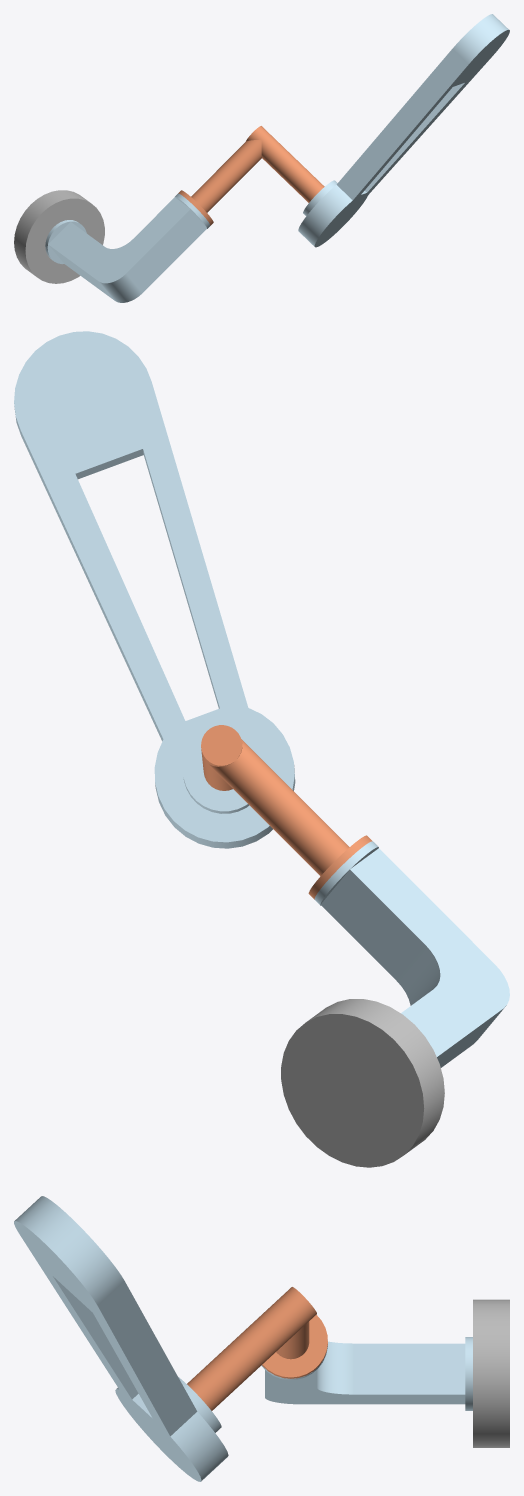
Rendered from ESRAP.gltf.
3 views of the same model, one above another, from view 1: azimuth 30°, elevation 25°; view 2: azimuth 150°, elevation 25°; view 3: azimuth 270°, elevation 25° (orthographic). The views are drawn at different scales.
Parts seen in each view (by area): view 1: mesh26_meshnode_26, mesh11_meshnode_11, mesh33_meshnode_33, mesh4_meshnode_4, mesh28_meshnode_28, mesh15_meshnode_15, mesh16_meshnode_16, mesh3_meshnode_3, mesh34_meshnode_34, mesh6_meshnode_6, mesh8_meshnode_8, mesh29_meshnode_29 (+2 smaller); view 2: mesh2_meshnode_2, mesh35_meshnode_35, mesh26_meshnode_26, mesh15_meshnode_15, mesh25_meshnode_25, mesh34_meshnode_34, mesh0_meshnode_0, mesh24_meshnode_24, mesh18_meshnode_18; view 3: mesh23_meshnode_23, mesh34_meshnode_34, mesh5_meshnode_5, mesh16_meshnode_16, mesh4_meshnode_4, mesh6_meshnode_6, mesh27_meshnode_27, mesh3_meshnode_3, mesh24_meshnode_24, mesh14_meshnode_14, mesh10_meshnode_10, mesh15_meshnode_15 (+2 smaller).
Part boxes in pixels (x1,y1,x2,y2): mesh26_meshnode_26: (48,197,190,283); mesh11_meshnode_11: (336,49,468,199); mesh33_meshnode_33: (25,198,104,283); mesh4_meshnode_4: (314,30,509,247); mesh28_meshnode_28: (126,209,206,292); mesh15_meshnode_15: (191,139,261,212); mesh16_meshnode_16: (246,126,324,202); mesh3_meshnode_3: (298,185,352,246); mesh34_meshnode_34: (14,190,89,275); mesh6_meshnode_6: (452,14,508,64); mesh8_meshnode_8: (365,83,464,192); mesh29_meshnode_29: (99,274,142,302); mesh2_meshnode_2: (14,331,294,842); mesh35_meshnode_35: (281,1014,424,1167); mesh26_meshnode_26: (350,848,509,1056); mesh15_meshnode_15: (207,739,349,875); mesh25_meshnode_25: (320,870,424,979); mesh34_meshnode_34: (307,999,444,1154); mesh0_meshnode_0: (183,732,264,811); mesh24_meshnode_24: (396,945,440,1005); mesh18_meshnode_18: (201,725,242,765); mesh23_meshnode_23: (354,1343,465,1394); mesh34_meshnode_34: (473,1299,509,1447); mesh5_meshnode_5: (98,1281,197,1436); mesh16_meshnode_16: (187,1287,316,1410); mesh4_meshnode_4: (14,1221,201,1481); mesh6_meshnode_6: (14,1196,124,1305); mesh27_meshnode_27: (265,1370,465,1404); mesh3_meshnode_3: (116,1388,228,1481); mesh24_meshnode_24: (317,1341,353,1394); mesh14_meshnode_14: (262,1315,327,1377); mesh10_meshnode_10: (53,1276,138,1399); mesh15_meshnode_15: (276,1321,309,1359).
Bounding box in the file's own units: 0.4516 × 0.3473 × 0.3339.
